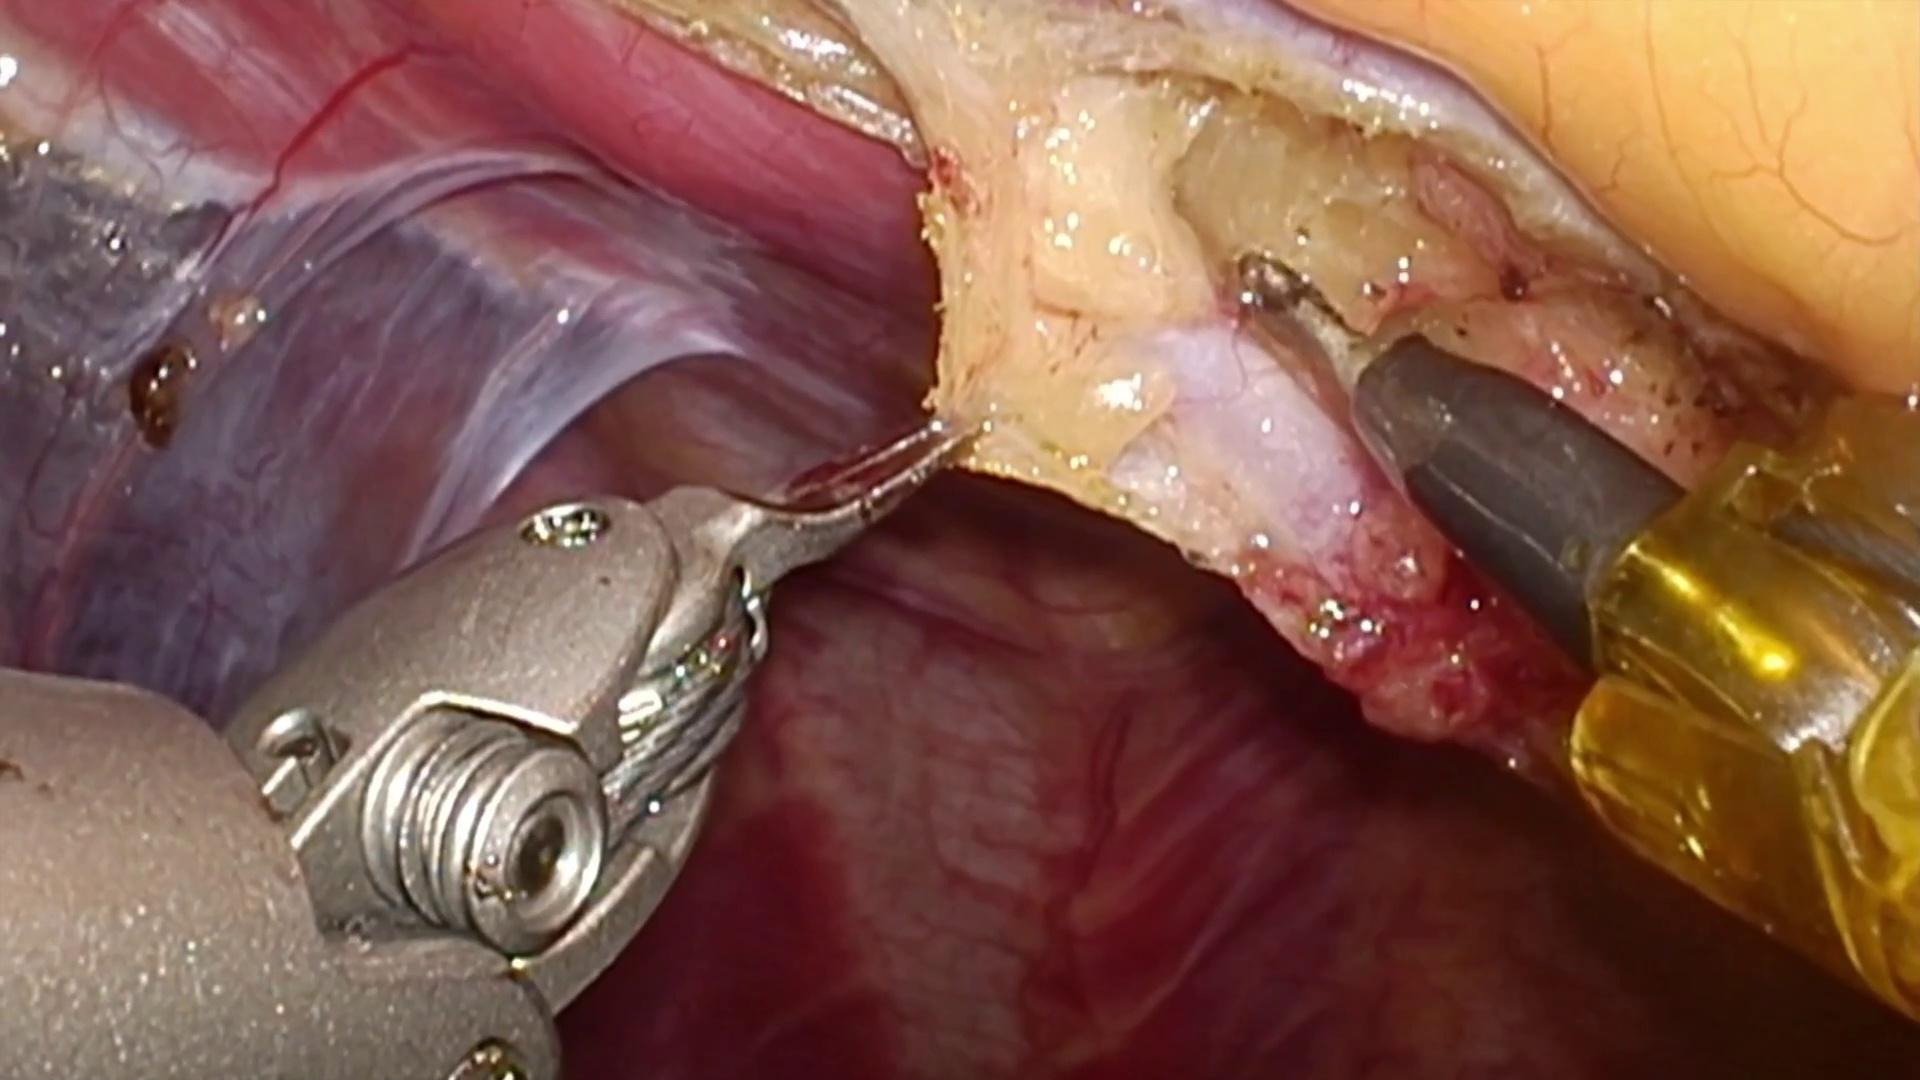Cautery_Spatula: (1238, 255, 1689, 692)
Debakey: (665, 398, 1030, 592)
